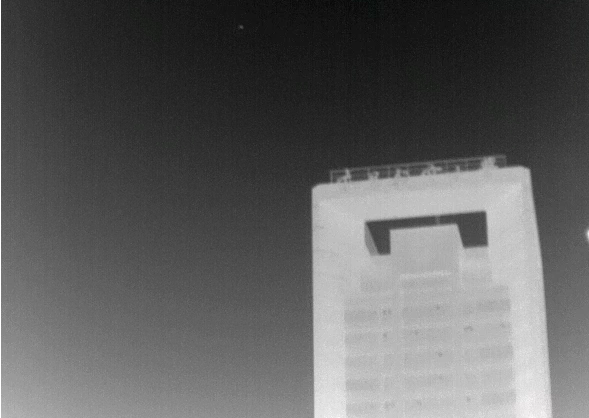dim target: (238, 24, 245, 29)
